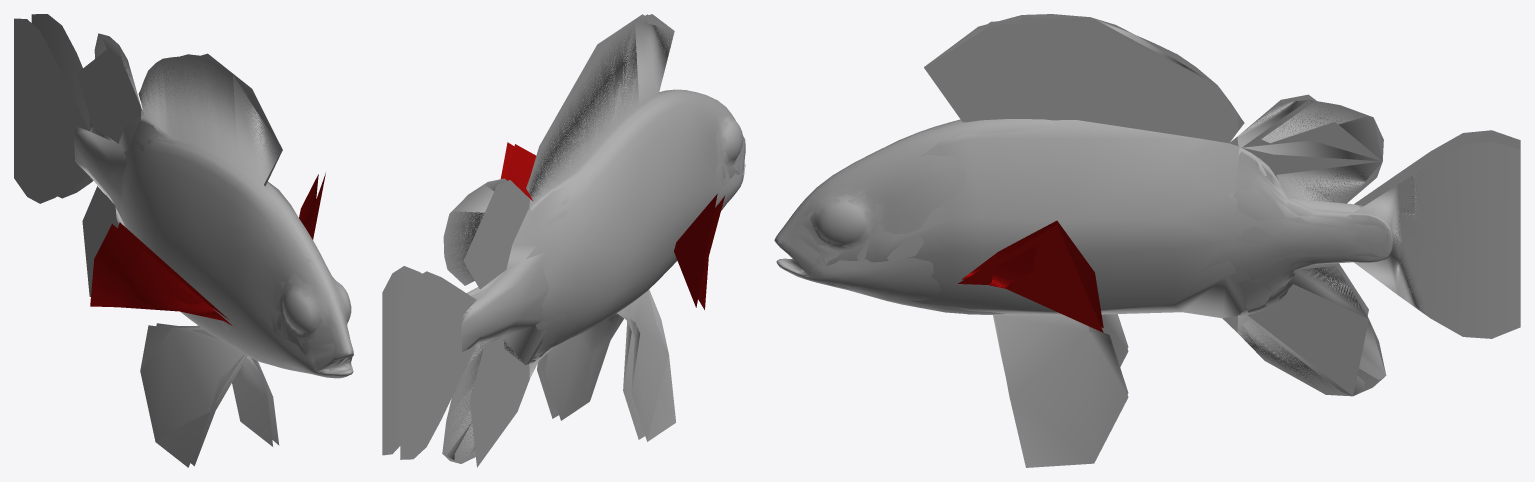
The model's file is Holocentridae_A.fbx.
3 views of the same model, side by side, from view 1: azimuth 30°, elevation 25°; view 2: azimuth 150°, elevation 25°; view 3: azimuth 270°, elevation 25° (orthographic). The views are drawn at different scales.
Visible parts, largest first — view 1: Holocentridae_A_L, Holocentridae_A_XS, Holocentridae_A_M, Holocentridae_A_S; view 2: Holocentridae_A_L, Holocentridae_A_XS, Holocentridae_A_M, Holocentridae_A_S; view 3: Holocentridae_A_XS, Holocentridae_A_L, Holocentridae_A_M, Holocentridae_A_S.
Boxes of the visible parts, bbox=[...] form: Holocentridae_A_L: bbox=[36, 14, 353, 461]; Holocentridae_A_XS: bbox=[14, 18, 350, 466]; Holocentridae_A_M: bbox=[31, 14, 353, 467]; Holocentridae_A_S: bbox=[91, 87, 352, 441]; Holocentridae_A_L: bbox=[386, 14, 745, 463]; Holocentridae_A_XS: bbox=[400, 14, 739, 467]; Holocentridae_A_M: bbox=[382, 19, 745, 460]; Holocentridae_A_S: bbox=[466, 14, 745, 441]; Holocentridae_A_XS: bbox=[789, 21, 1520, 467]; Holocentridae_A_L: bbox=[774, 14, 1520, 396]; Holocentridae_A_M: bbox=[775, 15, 1424, 395]; Holocentridae_A_S: bbox=[782, 17, 1387, 395].
Size of the model in its own units: 0.3632 by 0.6209 by 0.9835.
